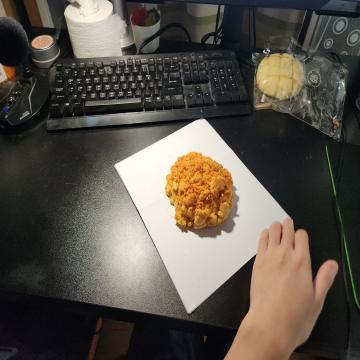soboru_bread: (164, 154, 236, 232)
